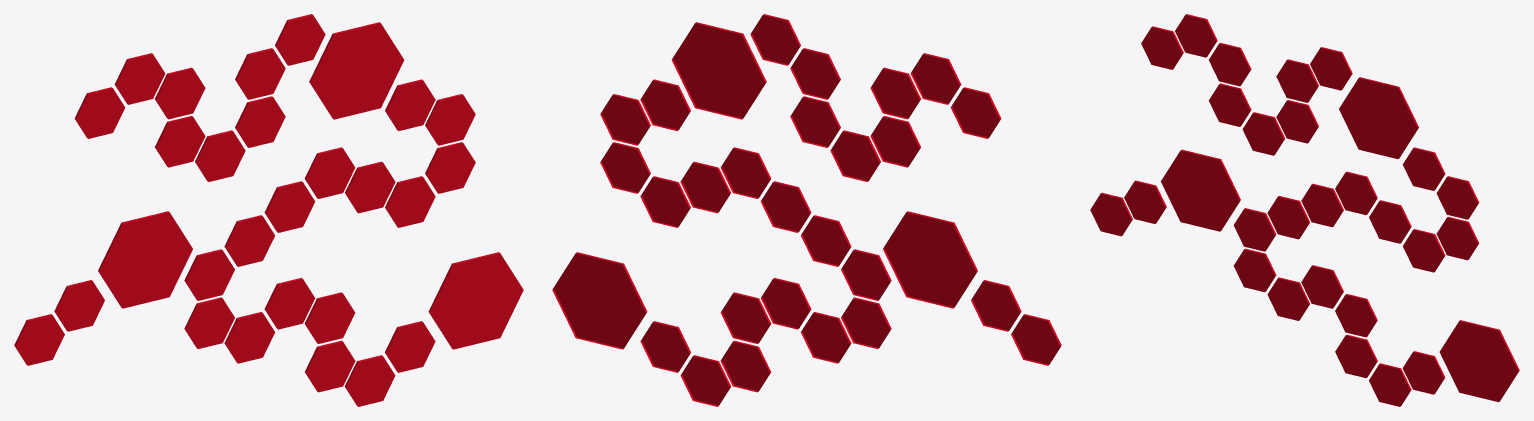
File: Mirror_Petits.FBX
3 renders of one model, left to right at view 1: azimuth 30°, elevation 25°; view 2: azimuth 150°, elevation 25°; view 3: azimuth 330°, elevation 25°, orthographic. The views are drawn at different scales.
Parts seen in each view (by area): view 1: NGon193; view 2: NGon193; view 3: NGon193.
Part boxes in pixels (x1,y1,x2,y2): NGon193: (14,14,523,406); NGon193: (552,14,1061,406); NGon193: (1090,14,1519,406).
Bounding box in the file's own units: 695 × 526 × 3.55.
